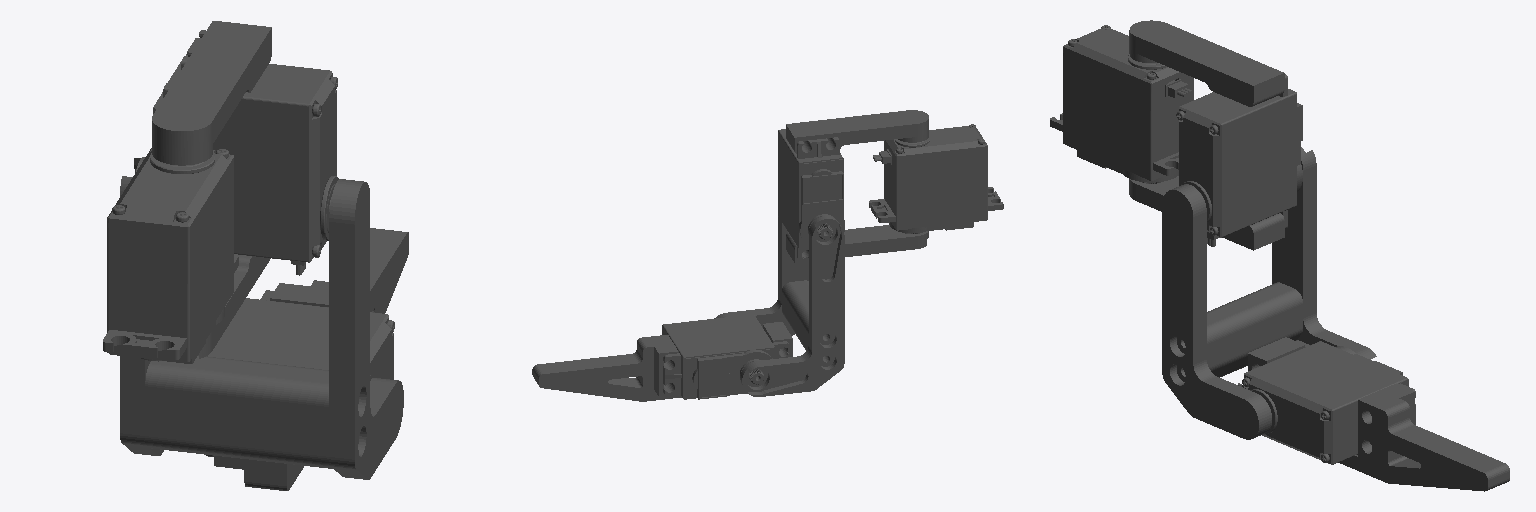
robot.urdf — hexapod:
<?xml version='1.0' encoding='utf-8'?>
<robot name="hexapod">

    <material name="black">
        <color rgba="0 0 0 1" />
    </material>

    <material name="gray">
        <color rgba="0.4 0.4 0.4 1" />
    </material>

    <material name="white">
        <color rgba="1 1 1 1" />
    </material>

    <material name="orange">
        <color rgba="0.902 0.345 0 1" />
    </material>

    <!-- Leg 6 links -->
    <link name="base_link">
        <inertial>
            <origin xyz="0.021356604749801736 0.013931981634710731 0.008369892907461604" rpy="0.0 -0.0 0.0" />
            <mass value="0.207953278714177" />
            <inertia ixx="3.9896400311118874e-05" iyy="3.989639417761035e-05" izz="3.622609283833629e-05" ixy="-1.1428841708080472e-05" iyz="3.349118845851222e-07" ixz="3.349213930771113e-07" />
        </inertial>
        <visual name="base_link_visual">
            <origin xyz="0.0001414198781287057 0.006505382111249958 4.440892098500626e-18" rpy="-3.141592653589793 2.0112649739774984e-16 0.7853981633974471" />
            <geometry>
                <mesh filename="CAD/MG996R.stl" scale="0.001 0.001 0.001" />
            </geometry>
            <material name="gray"/>
        </visual>
        <collision name="base_link_collision">
            <origin xyz="0.0001414198781287057 0.006505382111249958 4.440892098500626e-18" rpy="-3.141592653589793 2.0112649739774984e-16 0.7853981633974471" />
            <geometry>
                <mesh filename="CAD/MG996R.stl" scale="0.001 0.001 0.001" />
            </geometry>
        </collision>
    </link>

    <link name="leg_6_MG996R_f">
        <inertial>
            <origin xyz="0.024952796767646505 -0.009630719405307088 0.00220609172344032" rpy="0.0 -0.0 0.0" />
            <mass value="0.207953278714177" />
            <inertia ixx="2.846755553628441e-05" iyy="4.377567261890787e-05" izz="4.3775659171870984e-05" ixy="-3.349188073534975e-07" iyz="7.549573057055295e-06" ixz="3.349144703087564e-07" />
        </inertial>
        <visual name="leg_6_MG996R_f_visual">
            <origin xyz="0.004699996796564301 0.0031819813014702623 0.0031819763648752364" rpy="-2.3561944901923395 1.3922145338705843e-18 -1.3922145338712252e-18" />
            <geometry>
                <mesh filename="CAD/MG996R.stl" scale="0.001 0.001 0.001" />
            </geometry>
            <material name="gray"/>
        </visual>
        <collision name="leg_6_MG996R_f_collision">
            <origin xyz="0.004699996796564301 0.0031819813014702623 0.0031819763648752364" rpy="-2.3561944901923395 1.3922145338705843e-18 -1.3922145338712252e-18" />
            <geometry>
                <mesh filename="CAD/MG996R.stl" scale="0.001 0.001 0.001" />
            </geometry>
        </collision>
    </link>

    <link name="leg_6_MG996R_t">
        <inertial>
            <origin xyz="-0.008979632074587993 -0.023117806796664572 -3.1356040430807753e-10" rpy="-1.232595164407831e-32 -1.2325951644078312e-32 -1.1599674393591448e-33" />
            <mass value="0.207953278714177" />
            <inertia ixx="3.187318053440943e-05" iyy="3.282046784020951e-05" izz="5.1325238952446874e-05" ixy="3.879268651024635e-06" iyz="-6.92276878432721e-12" ixz="-2.58572416608766e-12" />
        </inertial>
        <visual name="leg_6_MG996R_t_visual">
            <origin xyz="-0.0005771479096923749 -0.04335710702690275 0.009750001889129951" rpy="-1.5707963267948966 -8.698363882287291e-16 2.3561944901923435" />
            <geometry>
                <mesh filename="CAD/MG996R.stl" scale="0.001 0.001 0.001" />
            </geometry>
            <material name="gray"/>
        </visual>
        <collision name="leg_6_MG996R_t_collision">
            <origin xyz="-0.0005771479096923749 -0.04335710702690275 0.009750001889129951" rpy="-1.5707963267948966 -8.698363882287291e-16 2.3561944901923435" />
            <geometry>
                <mesh filename="CAD/MG996R.stl" scale="0.001 0.001 0.001" />
            </geometry>
        </collision>
    </link>

    <link name="leg_6_coxa_a">
        <inertial>
            <origin xyz="-0.008150925434577462 -0.018304994156193324 -0.000627185221084341" rpy="0.0 -0.0 -4.032124600414999e-68" />
            <mass value="0.03329037594662584" />
            <inertia ixx="4.131218918157248e-06" iyy="4.292509549727152e-06" izz="8.134975133641397e-06" ixy="-3.4675873338201415e-06" iyz="-4.4360653585976805e-08" ixz="-4.967608887462187e-08" />
        </inertial>
        <visual name="leg_6_coxa_a_visual">
            <origin xyz="0.008308500528477704 -0.001590989471538844 0.0017500032034356038" rpy="2.6334328169288294e-16 1.0633403582450601e-16 2.3561944901923435" />
            <geometry>
                <mesh filename="CAD/coxa_a_left.stl" scale="0.001 0.001 0.001" />
            </geometry>
            <material name="gray"/>
        </visual>
        <collision name="leg_6_coxa_a_collision">
            <origin xyz="0.008308500528477704 -0.001590989471538844 0.0017500032034356038" rpy="2.6334328169288294e-16 1.0633403582450601e-16 2.3561944901923435" />
            <geometry>
                <mesh filename="CAD/coxa_a_left.stl" scale="0.001 0.001 0.001" />
            </geometry>
        </collision>
    </link>

    <link name="leg_6_coxa_b">
        <inertial>
            <origin xyz="0.016082730051480344 -0.01589401195560855 -0.0058356493602066475" rpy="0.0 -0.0 0.0" />
            <mass value="0.044908366157452306" />
            <inertia ixx="7.570806724452794e-06" iyy="7.81517924805644e-06" izz="1.4869699270878e-05" ixy="6.737300381971345e-06" iyz="-1.0459627444668585e-07" ixz="1.0048041289666804e-07" />
        </inertial>
        <visual name="leg_6_coxa_b_visual">
            <origin xyz="0.03747666052847764 -0.03747666052846109 0.04149999679656441" rpy="-3.141592653589793 -1.0633403582450606e-16 -2.356194490192341" />
            <geometry>
                <mesh filename="CAD/coxa_b_left.stl" scale="0.001 0.001 0.001" />
            </geometry>
            <material name="gray"/>
        </visual>
        <collision name="leg_6_coxa_b_collision">
            <origin xyz="0.03747666052847764 -0.03747666052846109 0.04149999679656441" rpy="-3.141592653589793 -1.0633403582450606e-16 -2.356194490192341" />
            <geometry>
                <mesh filename="CAD/coxa_b_left.stl" scale="0.001 0.001 0.001" />
            </geometry>
        </collision>
    </link>

    <link name="leg_6_femur_a">
        <inertial>
            <origin xyz="0.007313766969462936 -0.0018738117298121894 0.03907114287950212" rpy="0.0 -0.0 4.032124600414999e-68" />
            <mass value="0.06532641332455366" />
            <inertia ixx="4.092478017380524e-05" iyy="4.082750947883695e-05" izz="8.434001460453158e-06" ixy="3.99016226065277e-06" iyz="7.299403352230955e-06" ixz="-7.334386904503235e-06" />
        </inertial>
        <visual name="leg_6_femur_a_visual">
            <origin xyz="0.0007071020514292847 0.0007071066182214736 -3.20343568116499e-09" rpy="1.5707963267948966 -0.6108652381980165 -0.78539816339745" />
            <geometry>
                <mesh filename="CAD/femur_a_left.stl" scale="0.001 0.001 0.001" />
            </geometry>
            <material name="gray"/>
        </visual>
        <collision name="leg_6_femur_a_collision">
            <origin xyz="0.0007071020514292847 0.0007071066182214736 -3.20343568116499e-09" rpy="1.5707963267948966 -0.6108652381980165 -0.78539816339745" />
            <geometry>
                <mesh filename="CAD/femur_a_left.stl" scale="0.001 0.001 0.001" />
            </geometry>
        </collision>
    </link>

    <link name="leg_6_femur_b">
        <inertial>
            <origin xyz="-0.015606805962844509 0.01515234034911952 0.004799562077849391" rpy="-1.232595164407831e-32 1.2325951644078312e-32 1.1599674393591448e-33" />
            <mass value="0.0800214310563922" />
            <inertia ixx="9.693159673780342e-06" iyy="9.693159673782077e-06" izz="1.3901924233198412e-05" ixy="5.6674172931058834e-06" iyz="-1.3985747771331253e-07" ixz="-1.398574777135294e-07" />
        </inertial>
        <visual name="leg_6_femur_b_visual">
            <origin xyz="2.051429248695058e-09 3.3817785016765357e-09 0.057705783203435744" rpy="-1.5707963267948966 0.6108652381980164 0.7853981633974499" />
            <geometry>
                <mesh filename="CAD/femur_b_left.stl" scale="0.001 0.001 0.001" />
            </geometry>
            <material name="gray"/>
        </visual>
        <collision name="leg_6_femur_b_collision">
            <origin xyz="2.051429248695058e-09 3.3817785016765357e-09 0.057705783203435744" rpy="-1.5707963267948966 0.6108652381980164 0.7853981633974499" />
            <geometry>
                <mesh filename="CAD/femur_b_left.stl" scale="0.001 0.001 0.001" />
            </geometry>
        </collision>
    </link>
    
    <link name="leg_6_femur_c">
        <inertial>
            <origin xyz="0.0010886446391108872 -0.0049183043341680666 -0.016733416303654974" rpy="0.0 -0.0 0.0" />
            <mass value="0.04839907214825549" />
            <inertia ixx="2.2465407655423682e-05" iyy="2.2599831891867822e-05" izz="4.14169218571959e-06" ixy="1.9297762130017666e-06" iyz="3.2931885882170625e-06" ixz="-3.2461726540463213e-06" />
        </inertial>
        <visual name="leg_6_femur_c_visual">
            <origin xyz="0.03075914205142933 0.030759146618221607 -0.05770578320343578" rpy="1.5707963267948966 -0.6108652381980165 -0.7853981633974499" />
            <geometry>
                <mesh filename="CAD/femur_c_left.stl" scale="0.001 0.001 0.001" />
            </geometry>
            <material name="gray"/>
        </visual>
        <collision name="leg_6_femur_c_collision">
            <origin xyz="0.03075914205142933 0.030759146618221607 -0.05770578320343578" rpy="1.5707963267948966 -0.6108652381980165 -0.7853981633974499" />
            <geometry>
                <mesh filename="CAD/femur_c_left.stl" scale="0.001 0.001 0.001" />
            </geometry>
        </collision>
    </link>

    <link name="leg_6_tibia">
        <inertial>
            <origin xyz="0.005778831687387029 0.009819416807217537 -0.0012229751299139657" rpy="0.0 -0.0 1.255085382316192e-62" />
            <mass value="0.10828707727885012" />
            <inertia ixx="5.543718848637254e-05" iyy="6.147434583850256e-05" izz="0.00010718301590340908" ixy="5.173583962738523e-05" iyz="-2.2599882365042464e-06" ixz="1.476543947169463e-06" />
        </inertial>
        <visual name="leg_6_tibia_visual">
            <origin xyz="0.0021213243054440944 0.008202439763284417 -0.015249998110870093" rpy="0.7853981633974483 -1.5707963267948957 0" />
            <geometry>
                <mesh filename="CAD/tibia_left.stl" scale="0.001 0.001 0.001" />
            </geometry>
            <material name="gray"/>
        </visual>
        <collision name="leg_6_tibia_collision">
            <origin xyz="0.0021213243054440944 0.008202439763284417 -0.015249998110870093" rpy="0.7853981633974483 -1.5707963267948957 0" />
            <geometry>
                <mesh filename="CAD/tibia_left.stl" scale="0.001 0.001 0.001" />
            </geometry>
        </collision>
    </link>

    <!-- Leg 6 joints -->
    <joint name="leg_6_coxa_joint" type="revolute">
        <origin xyz="0.028425689999999997 0.021001069999999997 0.031066209999999997" rpy="-3.141592653589793 -0.0 1.251344390463166e-32" />
        <parent link="base_link" />
        <child link="leg_6_coxa_b" />
        <axis xyz="0.0 6.162975822039155e-33 1.0" />
        <limit lower="-1.570796" upper="1.570796" effort="1000000" velocity="1000000" />
    </joint>

    <joint name="leg_6_coxa_b_MG996R_f" type="fixed">
        <origin xyz="0.02916816000000001 -0.03906765 -0.00535" rpy="3.141592653589793 -1.5707963267948966 0" />
        <parent link="leg_6_coxa_b" />
        <child link="leg_6_MG996R_f" />
    </joint>
    
    <joint name="leg_6_MG996R_f_coxa_a" type="fixed">
        <origin xyz="0.0494 -1.7763568394002505e-17 0.0" rpy="-2.4442543409198012e-32 -1.5707963267948966 0" />
        <parent link="leg_6_MG996R_f" />
        <child link="leg_6_coxa_a" />
    </joint>

    <joint name="leg_6_femur_joint" type="revolute">
        <origin xyz="0.03495 -0.025679440000000008 0.01825481999999999" rpy="3.141592653589793 -1.5707963267948966 0" />
        <parent link="leg_6_MG996R_f" />
        <child link="leg_6_femur_a" />
        <axis xyz="-0.707107 -0.707107 1.4803983593078296e-34" />
        <limit lower="-2.356194" upper="0.785398" effort="1000000" velocity="1000000" />
    </joint>

    <joint name="leg_6_femur_a_femur_b" type="fixed">
        <origin xyz="0.0007071000000000005 0.000707109999999993 0.057705780000000005" rpy="3.141592653589793 -5.59284578221332e-17 -5.551115123125784e-17" />
        <parent link="leg_6_femur_a" />
        <child link="leg_6_femur_b" />
    </joint>

    <joint name="leg_6_femur_b_femur_c" type="fixed">
        <origin xyz="-0.03075914 0.030759150000000002 0.0" rpy="-3.141592653589793 1.59199441504844e-17 -5.551115123125784e-17" />
        <parent link="leg_6_femur_b" />
        <child link="leg_6_femur_c" />
    </joint>

    <joint name="leg_6_tibia_joint" type="revolute">
        <origin xyz="0.020918530000000005 -0.020918540000000013 0.06344154" rpy="-6.289234938331015e-17 -5.59284578221332e-17 -5.551115123125784e-17" />
        <parent link="leg_6_femur_a" />
        <child link="leg_6_MG996R_t" />
        <axis xyz="-0.7071069999999999 -0.7071069999999999 -2.4934463508646154e-17" />
        <limit lower="-1.570796" upper="1.570796" effort="1000000" velocity="1000000" />
    </joint>
    
    <joint name="leg_6_MG996R_t_tibia" type="fixed">
        <origin xyz="0.0027462499999999857 -0.04668051 0.005250000000000004" rpy="6.289234938331016e-17 5.592845782213298e-17 5.551115123125774e-17" />
        <parent link="leg_6_MG996R_t" />
        <child link="leg_6_tibia" />
    </joint>

</robot>

--- Facts derived from the render (not from the file) ---
Views: 3 orthographic renders of the robot side by side, from view 1: azimuth 30°, elevation 25°; view 2: azimuth 150°, elevation 25°; view 3: azimuth 270°, elevation 25°.
Robot: hexapod — 9 links, 8 joints (3 revolute, 5 fixed); root link base_link; default pose: all joints at 0.
Visible links, largest first — view 1: base_link, leg_6_MG996R_f, leg_6_femur_b, leg_6_femur_a, leg_6_coxa_b, leg_6_MG996R_t, leg_6_tibia, leg_6_femur_c, leg_6_coxa_a; view 2: base_link, leg_6_femur_c, leg_6_MG996R_t, leg_6_tibia, leg_6_MG996R_f, leg_6_coxa_b, leg_6_coxa_a, leg_6_femur_a, leg_6_femur_b; view 3: base_link, leg_6_MG996R_f, leg_6_femur_a, leg_6_MG996R_t, leg_6_tibia, leg_6_coxa_b, leg_6_femur_b, leg_6_femur_c, leg_6_coxa_a.
Boxes of the visible links, x1,y1,x2,y2 form: base_link: (103, 148, 238, 363); leg_6_MG996R_f: (153, 30, 338, 275); leg_6_femur_b: (145, 355, 332, 468); leg_6_femur_a: (329, 179, 403, 479); leg_6_coxa_b: (152, 21, 271, 165); leg_6_MG996R_t: (206, 290, 394, 456); leg_6_tibia: (214, 228, 408, 490); leg_6_femur_c: (120, 157, 163, 455); leg_6_coxa_a: (199, 255, 270, 358); base_link: (869, 124, 1003, 233); leg_6_femur_c: (740, 216, 844, 396); leg_6_MG996R_t: (662, 314, 789, 399); leg_6_tibia: (532, 322, 792, 401); leg_6_MG996R_f: (778, 129, 844, 260); leg_6_coxa_b: (786, 110, 928, 153); leg_6_coxa_a: (786, 225, 928, 262); leg_6_femur_a: (714, 217, 808, 335); leg_6_femur_b: (782, 280, 827, 359); base_link: (1050, 25, 1193, 183); leg_6_MG996R_f: (1176, 74, 1302, 246); leg_6_femur_a: (1162, 184, 1271, 439); leg_6_MG996R_t: (1238, 340, 1415, 464); leg_6_tibia: (1248, 337, 1509, 491); leg_6_coxa_b: (1129, 20, 1284, 106); leg_6_femur_b: (1207, 282, 1302, 377); leg_6_femur_c: (1272, 147, 1376, 359); leg_6_coxa_a: (1129, 176, 1284, 250).
Size in the robot's own frame: 0.1542 by 0.1467 by 0.1176 metres.
Meshes: 7 distinct files referenced, 9 mesh visuals loaded (7 binary STL).